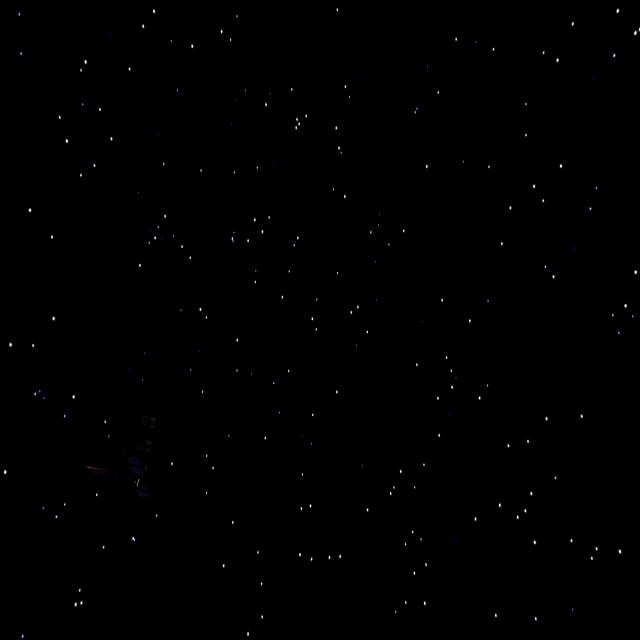medium_debris: (84, 397, 188, 510)
